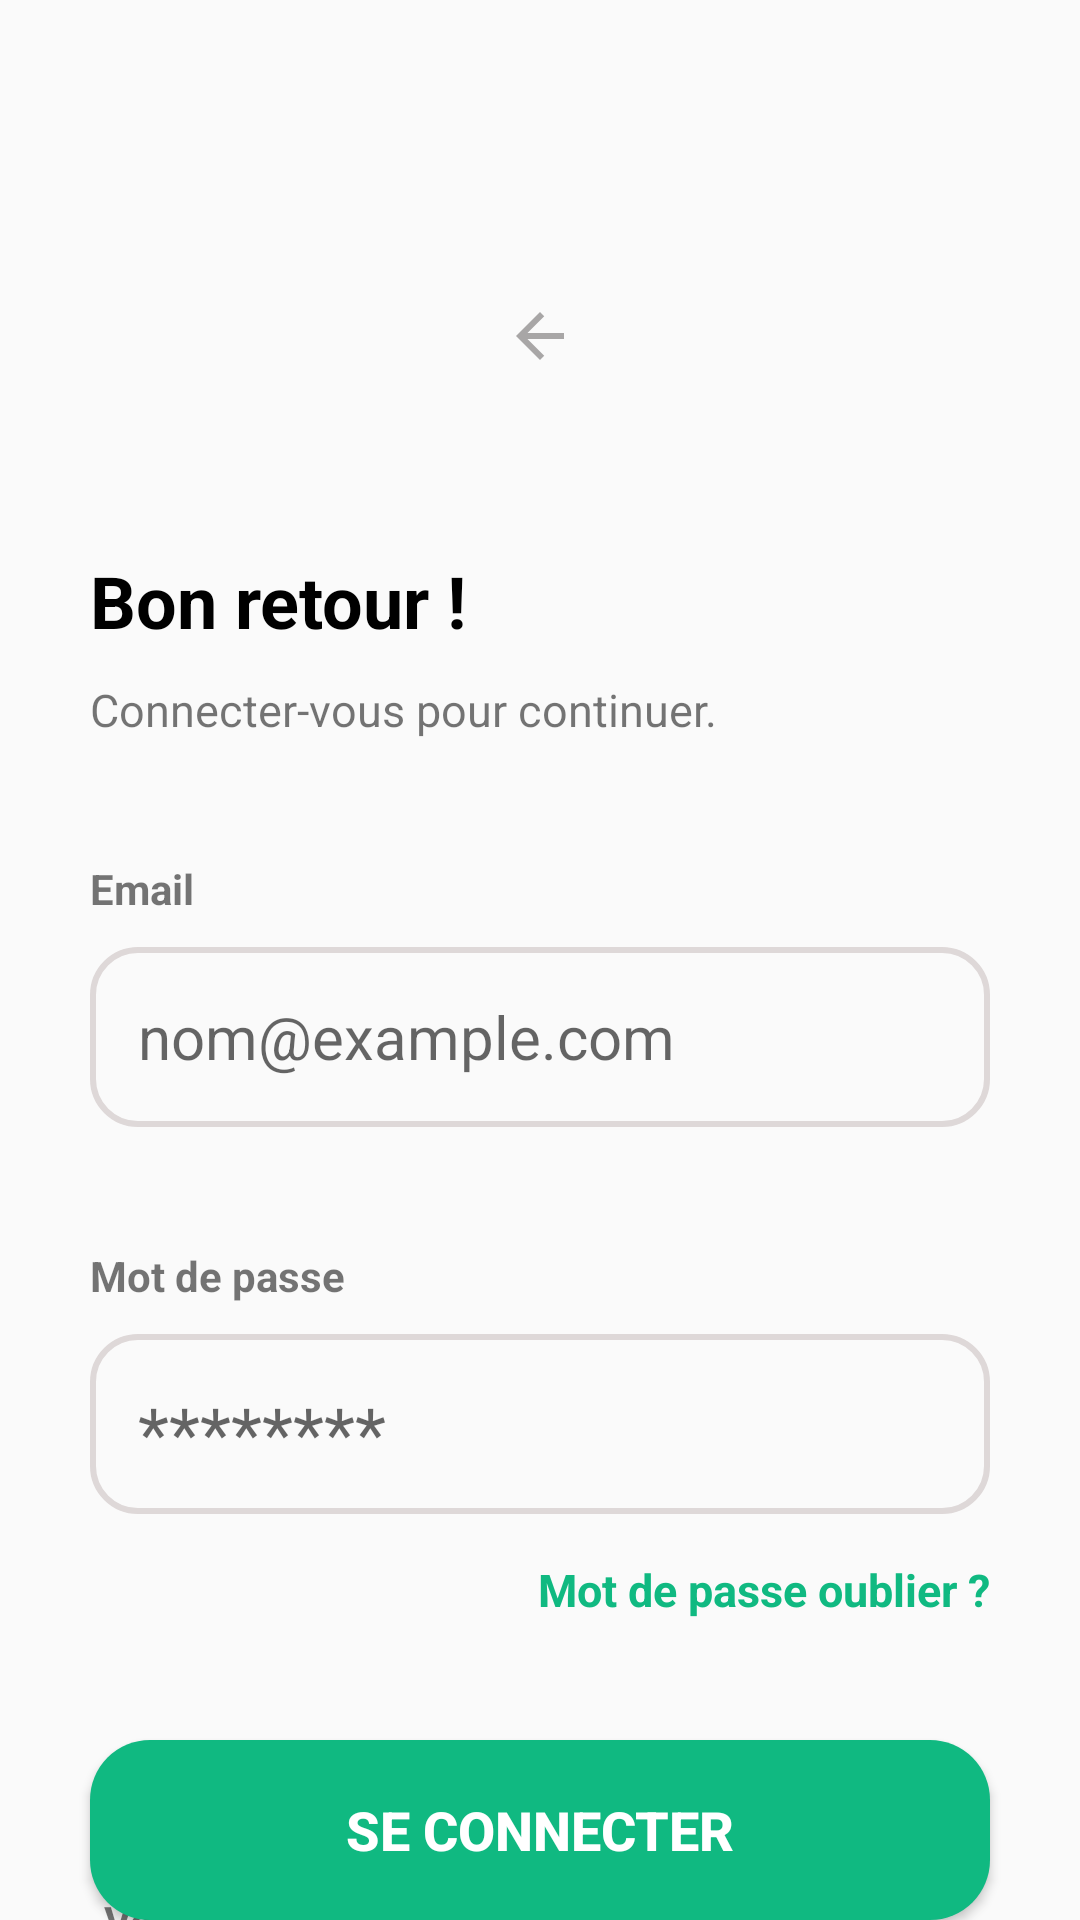

Where to tap for icons on this 1080 × 1920 app screen, as (x=x, y=y):
arrow back: (x=540, y=336)
